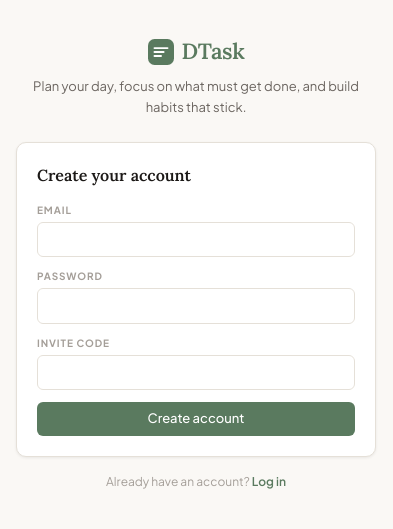
Scenario: WelcomeView › shows the server error detail when signup is rejected
Type "x@y.com" into the field labelled "Email" at (196, 240), box [37, 222, 355, 257]
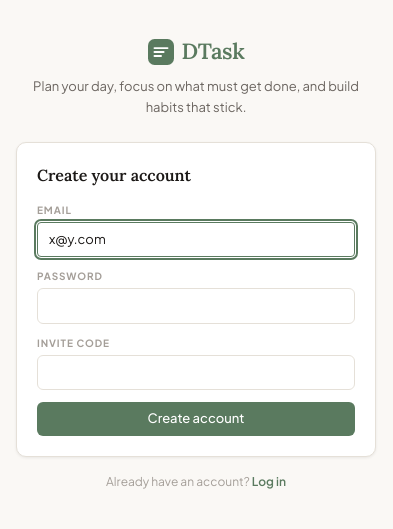
Type "password123" into the password field labelled "Password" at (196, 306), box [37, 288, 355, 324]
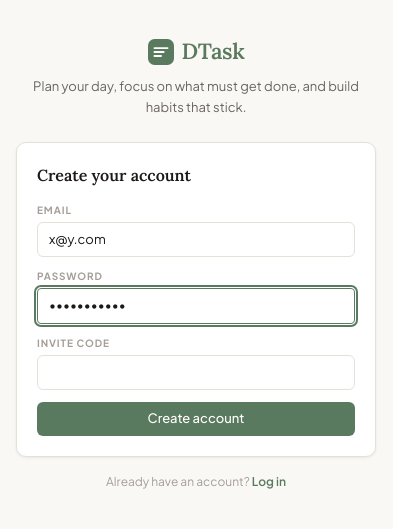
Type "wrong" into the field labelled "Invite code" at (196, 373), box [37, 355, 355, 390]
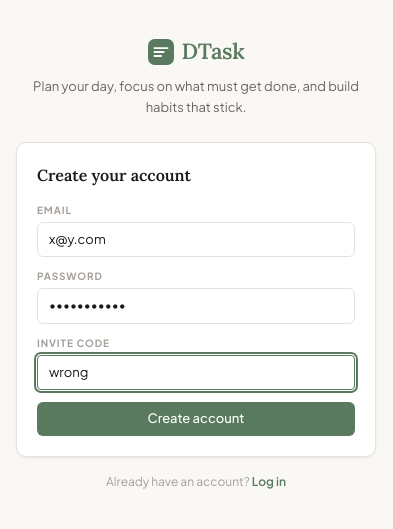
Click the button "Create account" at (196, 419), box [37, 402, 355, 436]
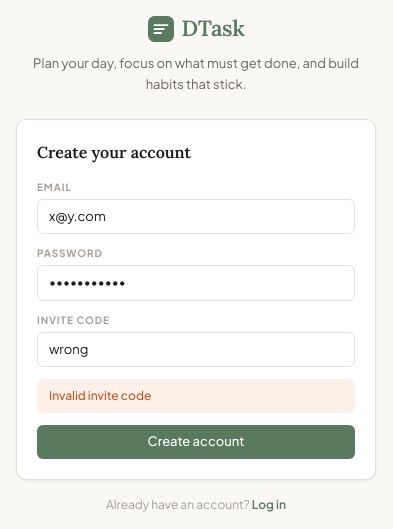
Expected: the text "Invalid invite code" is shown, [37, 379, 355, 413]
